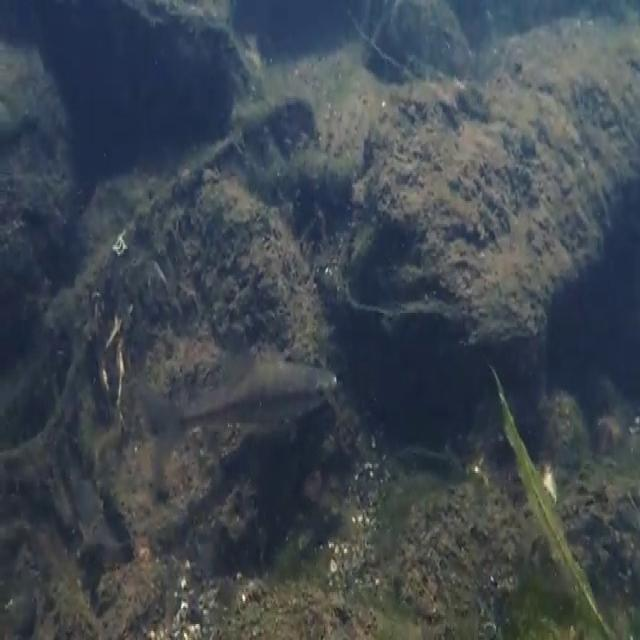Cakil Baligi: (142, 337, 336, 481)
